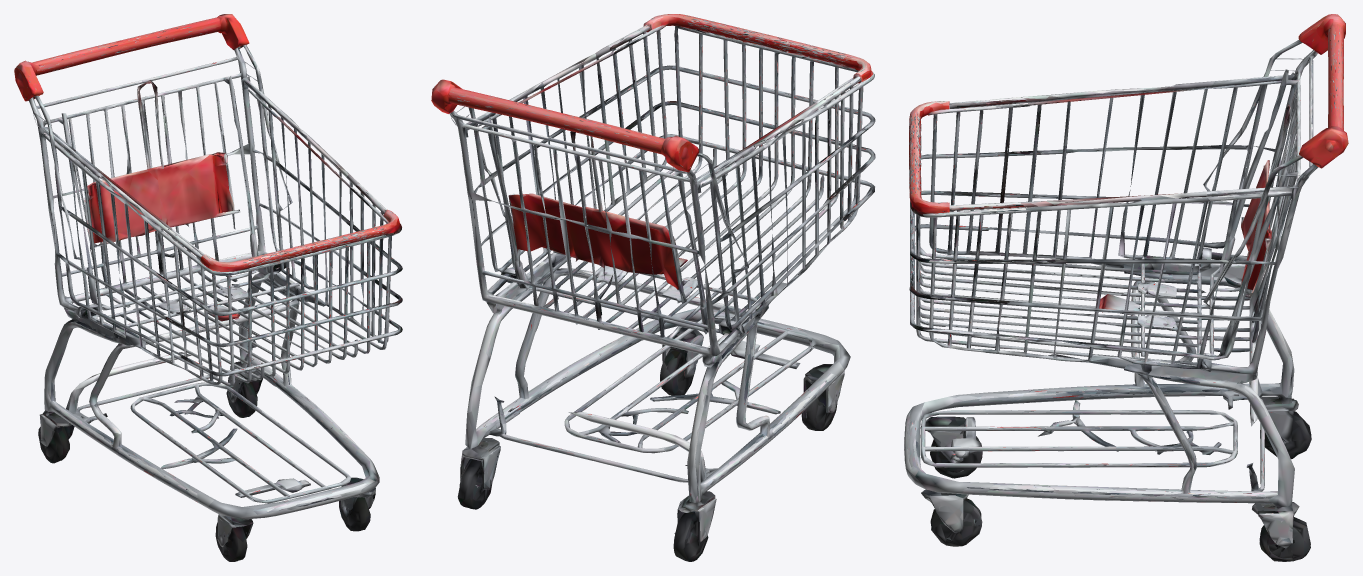
The model's file is cart.opt.glb.
The picture shows the model from 3 angles, left to right: view 1: azimuth 30°, elevation 25°; view 2: azimuth 150°, elevation 25°; view 3: azimuth 270°, elevation 25°; orthographic projection. The views are drawn at different scales.
Visible parts, largest first — view 1: tripo_node_9c0dd832-8c34-412f-8bc9-113a908c3f17; view 2: tripo_node_9c0dd832-8c34-412f-8bc9-113a908c3f17; view 3: tripo_node_9c0dd832-8c34-412f-8bc9-113a908c3f17.
Boxes of the visible parts, bbox=[...] form: tripo_node_9c0dd832-8c34-412f-8bc9-113a908c3f17: bbox=[14, 14, 402, 561]; tripo_node_9c0dd832-8c34-412f-8bc9-113a908c3f17: bbox=[431, 14, 875, 561]; tripo_node_9c0dd832-8c34-412f-8bc9-113a908c3f17: bbox=[904, 14, 1348, 561].
Bounding box in the file's own units: 0.5787 × 0.9779 × 0.8977.
1 material, 1 textured.
